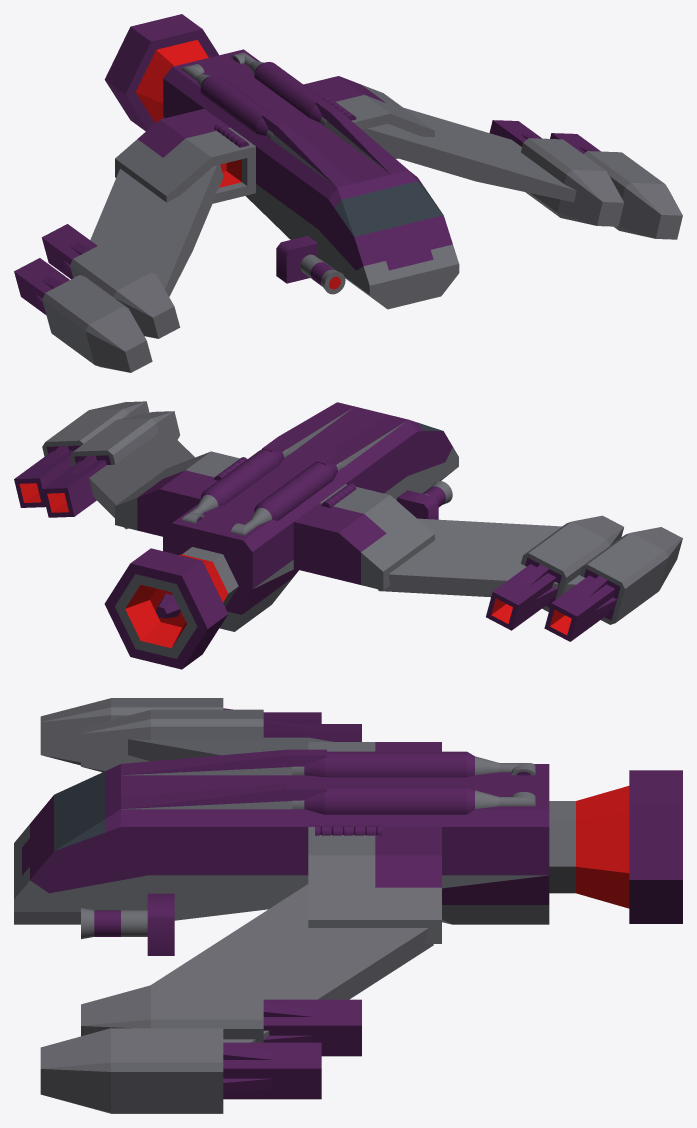
File: spaceship2.glb
3 views of the same model, one above another, from view 1: azimuth 30°, elevation 25°; view 2: azimuth 150°, elevation 25°; view 3: azimuth 270°, elevation 25° (orthographic). The views are drawn at different scales.
Parts seen in each view (by area): view 1: mergedBlocks(Clone); view 2: mergedBlocks(Clone); view 3: mergedBlocks(Clone).
Boxes of the visible parts, left/top/right/bottom form: mergedBlocks(Clone): left=14, top=14, right=682, bottom=372; mergedBlocks(Clone): left=14, top=401, right=682, bottom=669; mergedBlocks(Clone): left=14, top=698, right=682, bottom=1113.
Size of the model in its own units: 6.52 by 1.4 by 5.
